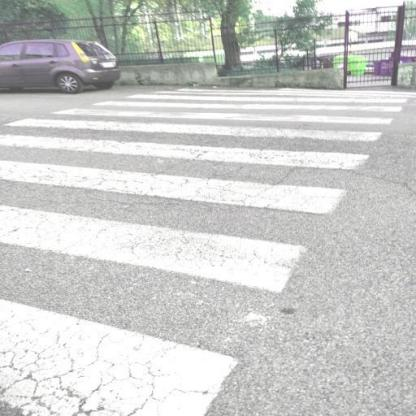crosswalk: (1, 104, 400, 146)
